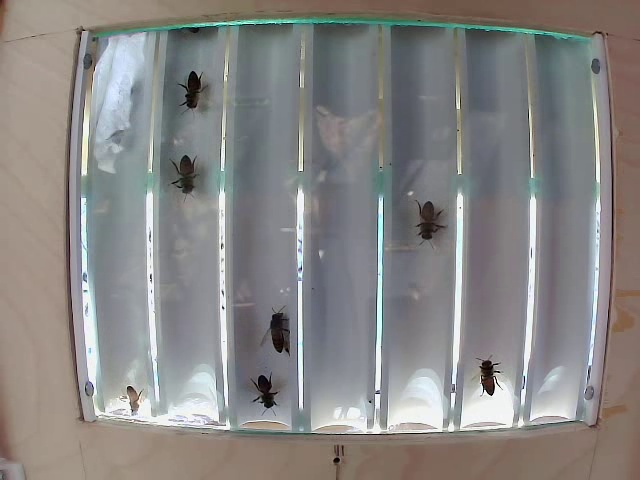bee: (182, 70, 228, 126), (256, 288, 298, 349), (155, 151, 203, 195), (243, 367, 287, 412), (407, 199, 435, 252), (479, 361, 511, 402)
